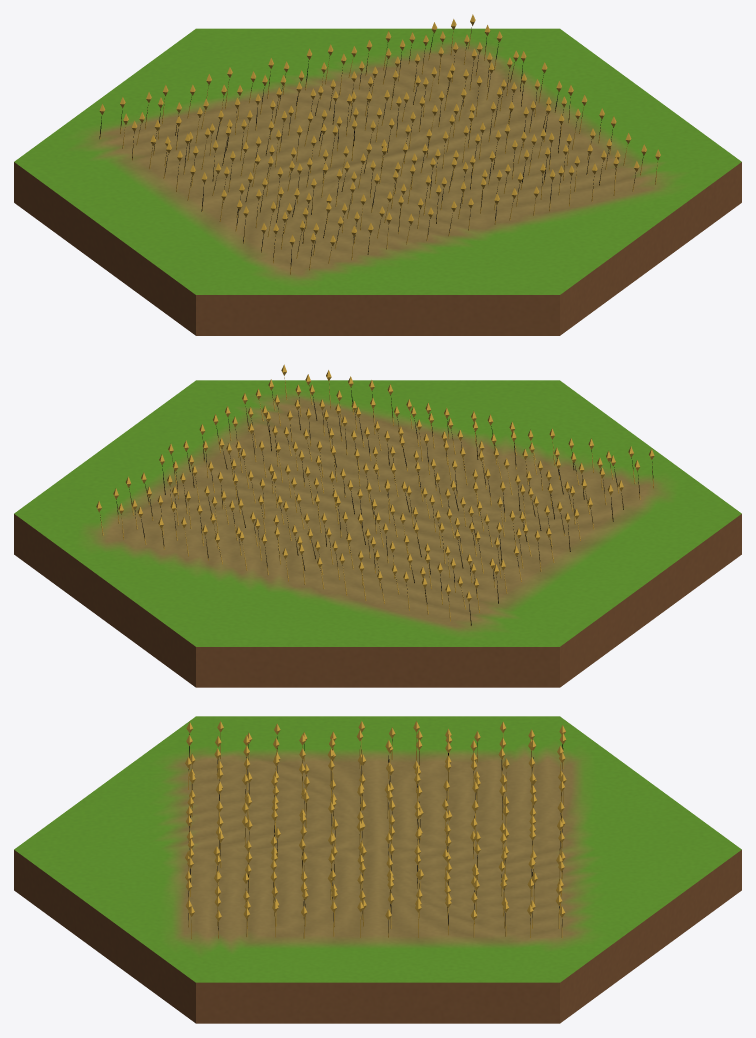
Rendered from SM_CerealNatural_A_LOD0.fbx.
3 renders of one model, top to bottom at view 1: azimuth 30°, elevation 25°; view 2: azimuth 150°, elevation 25°; view 3: azimuth 270°, elevation 25°, orthographic.
Visible parts, largest first — view 1: SM_CerealNatural_A_LOD0; view 2: SM_CerealNatural_A_LOD0; view 3: SM_CerealNatural_A_LOD0.
Boxes of the visible parts, x1,y1,x2,y2 form: SM_CerealNatural_A_LOD0: (14,14,741,335); SM_CerealNatural_A_LOD0: (14,364,741,687); SM_CerealNatural_A_LOD0: (14,716,741,1023).
Bounding box in the file's own units: 1.68 × 0.2445 × 1.94.
1 material, 1 textured.
